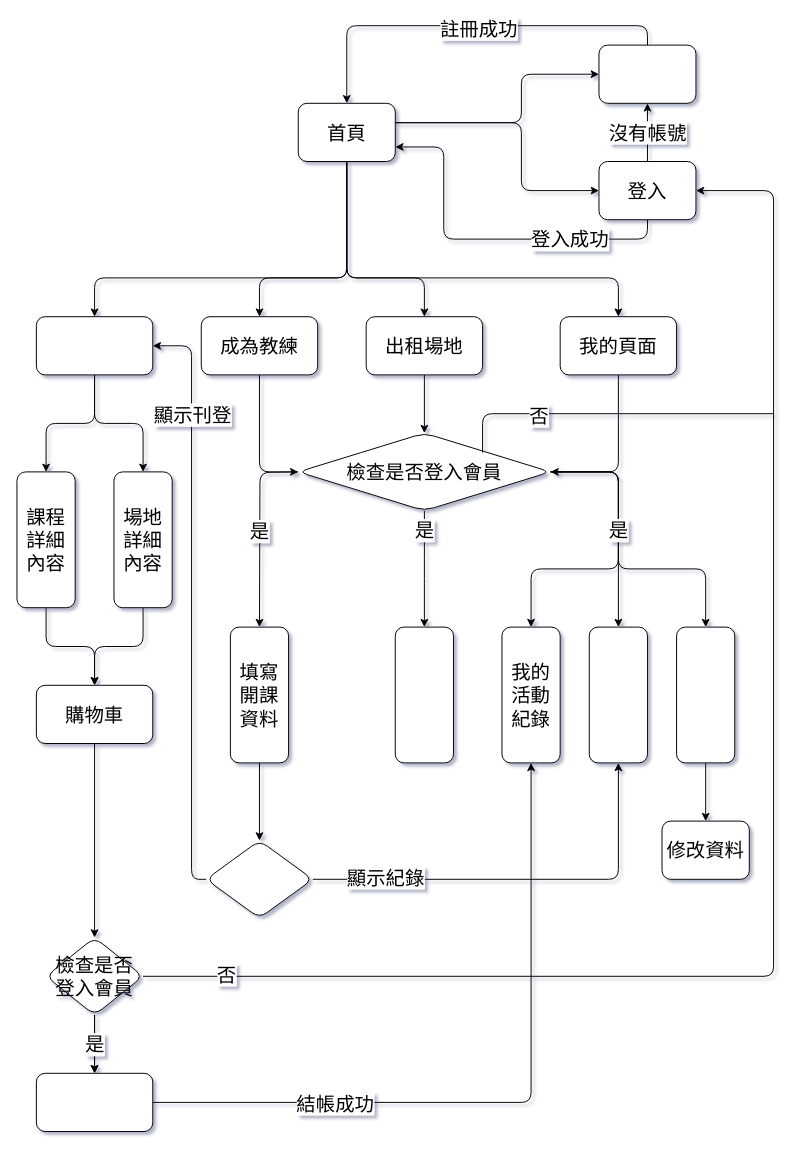
Some shapes in this 804 by 1154 pixel diagram are drawn without their labels. The box of each missing label's shape, as (x1, y1, x2, y2) in pixels:
填寫出租資料: (394, 626, 453, 763)
審核: (205, 840, 313, 918)
我的刊登紀錄: (588, 626, 647, 763)
我的會員資料: (676, 626, 735, 763)
結帳: (35, 1072, 153, 1132)
註冊: (598, 44, 696, 103)
課程與場地: (35, 316, 153, 375)
